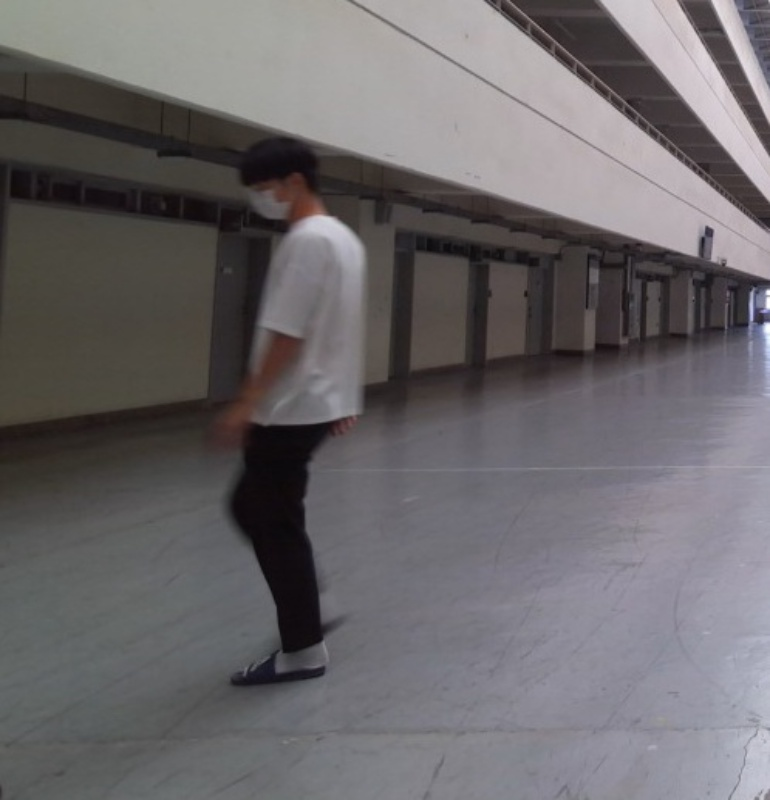person: (210, 135, 370, 688)
